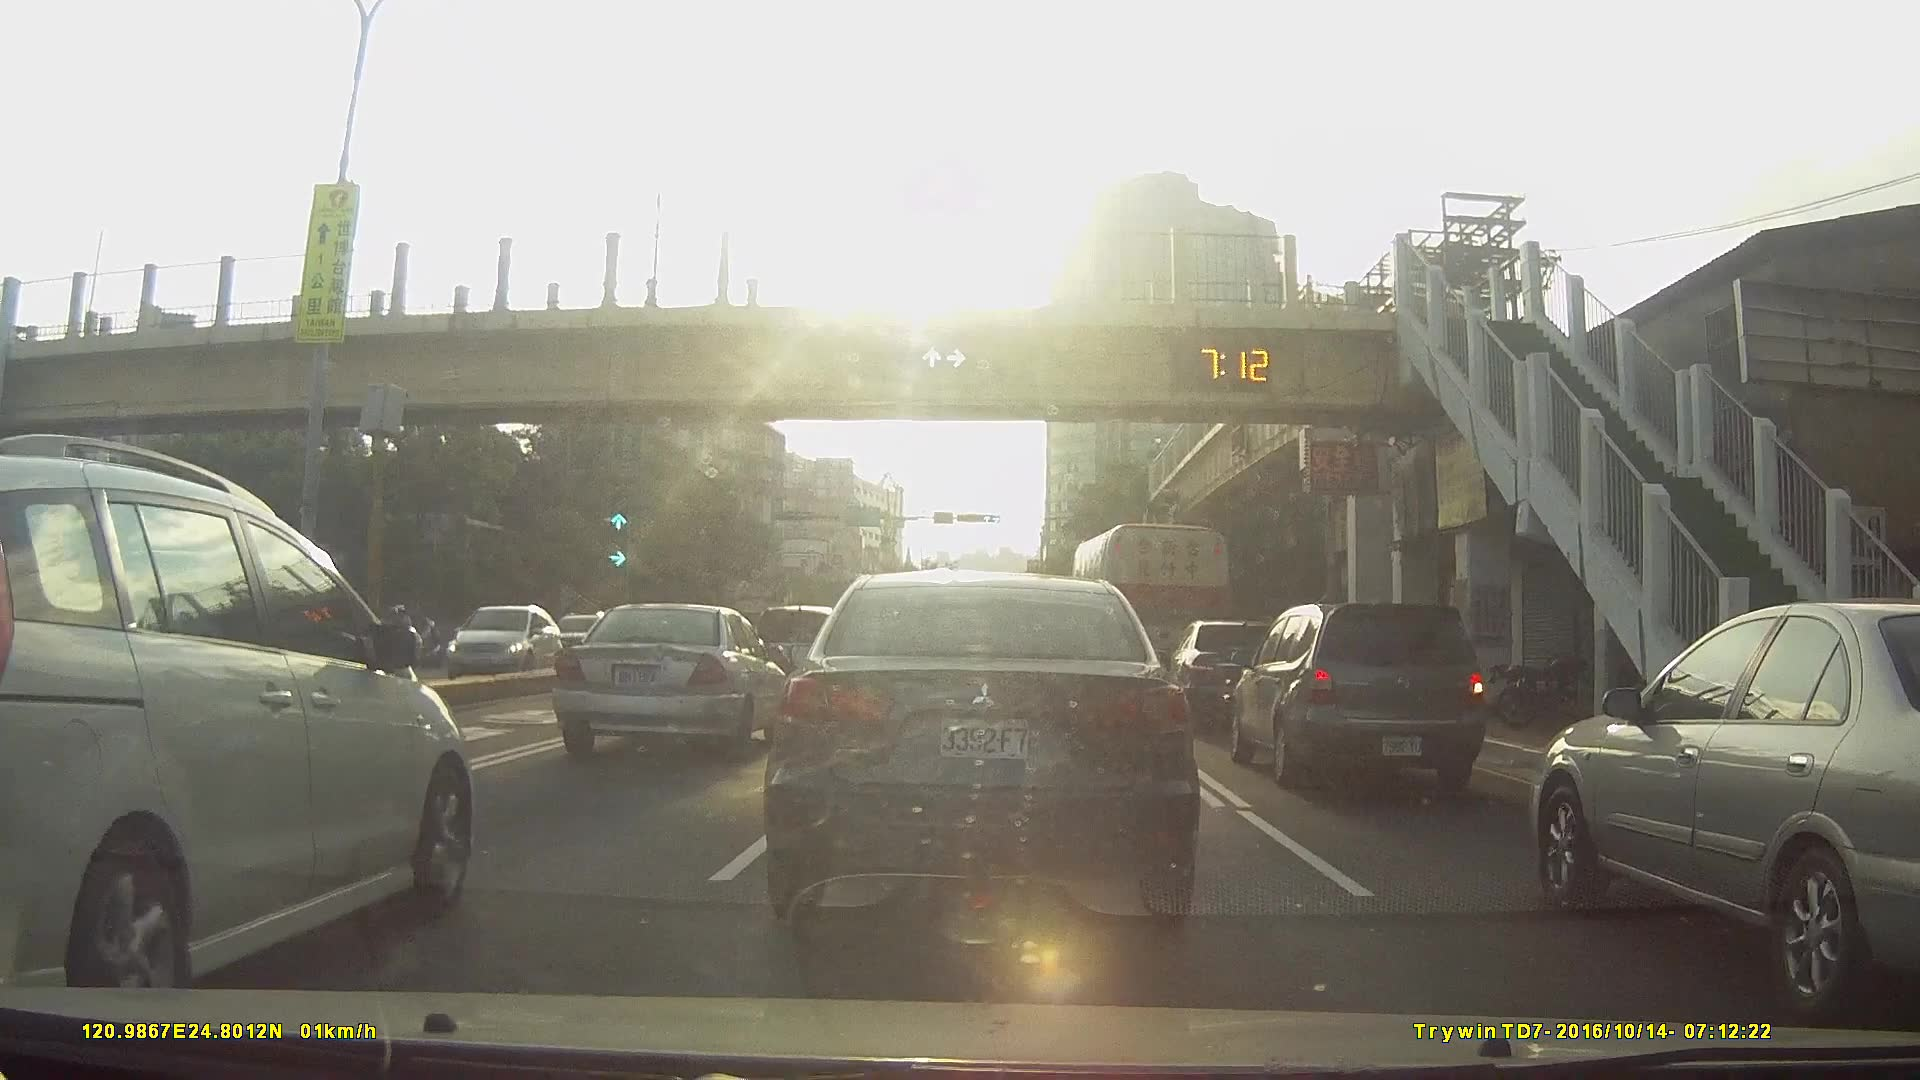rider: (378, 605, 421, 673)
vehicle: (0, 438, 488, 1021), (1534, 596, 1920, 1023), (772, 570, 1199, 934), (1228, 601, 1488, 793), (562, 603, 798, 758), (1167, 621, 1294, 725), (737, 603, 839, 702), (446, 603, 573, 677)
